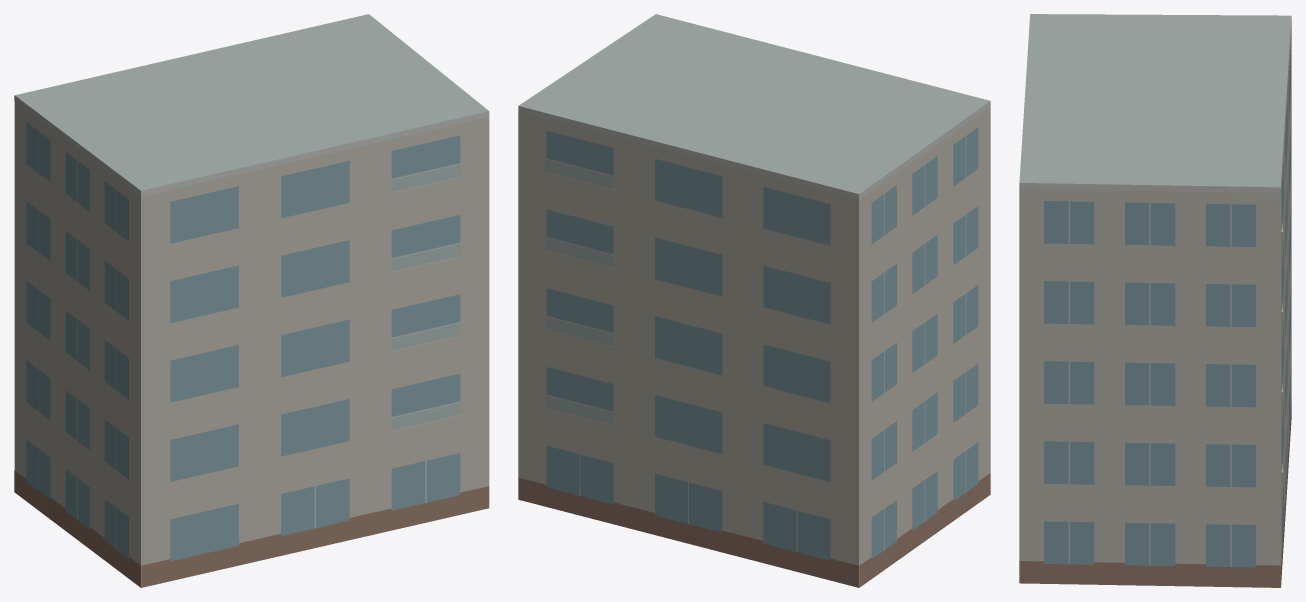
File: survey-upis-32593136.glb
The picture shows the model from 3 angles, left to right: view 1: azimuth 30°, elevation 25°; view 2: azimuth 150°, elevation 25°; view 3: azimuth 270°, elevation 25°; orthographic projection.
Visible parts, largest first — view 1: survey-upis-32593136.tmp; view 2: survey-upis-32593136.tmp; view 3: survey-upis-32593136.tmp.
Boxes of the visible parts, x1,y1,x2,y2 form: survey-upis-32593136.tmp: (14, 14, 489, 587); survey-upis-32593136.tmp: (518, 14, 990, 587); survey-upis-32593136.tmp: (1019, 14, 1291, 587).
Size of the model in its own units: 15.42 by 16.6 by 10.24.
